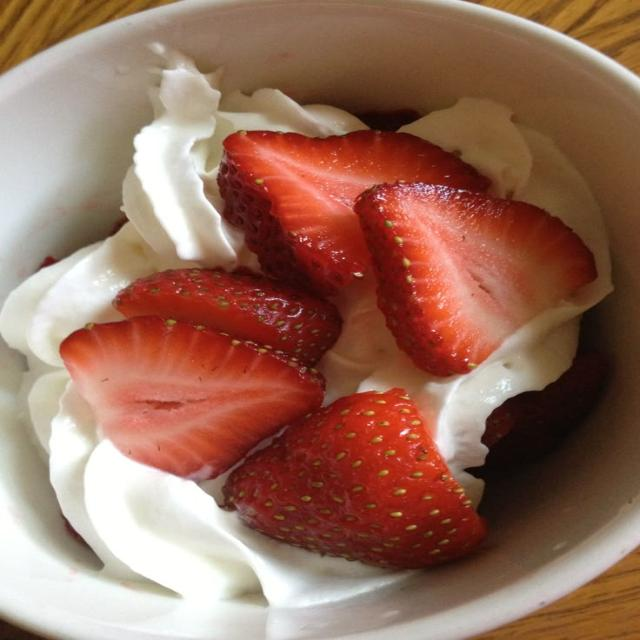strawberry sliced: (224, 389, 486, 568), (355, 184, 596, 376), (218, 130, 488, 295), (60, 317, 323, 479), (114, 269, 341, 364), (474, 352, 607, 476)
